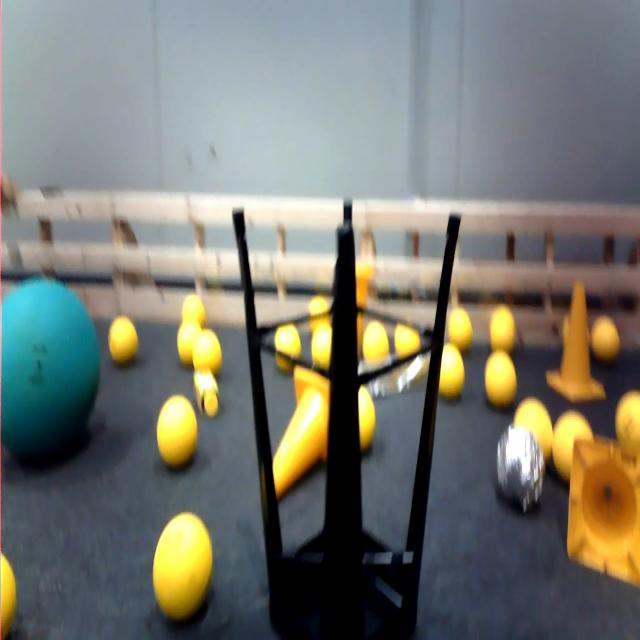fuel: (148, 511, 217, 616)
